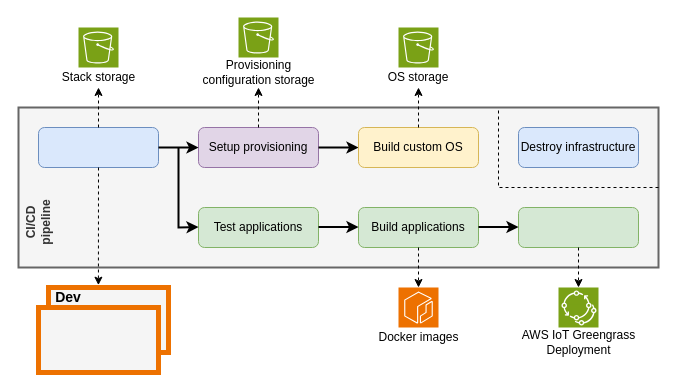
The diagram is 677 pixels wide and 392 high, and some of its shapes have lost their labels. Here are the shapes that lost their labels. From the top down, the centre of each, then its label:
[98,147]: Deploy infrastructure
[578,227]: Deploy applications
[98,339]: Prod
